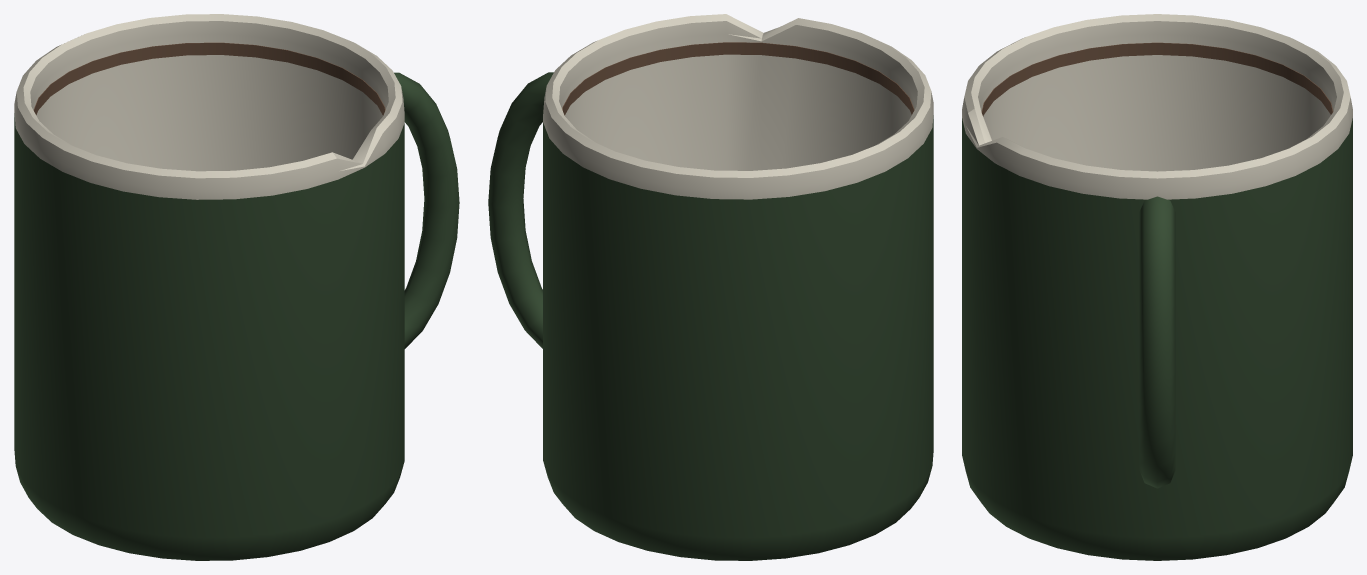
File: coffee-mug-green-empty-4efedf6712d3.glb
The picture shows the model from 3 angles, left to right: view 1: azimuth 30°, elevation 25°; view 2: azimuth 150°, elevation 25°; view 3: azimuth 270°, elevation 25°; orthographic projection.
Parts seen in each view (by area): view 1: enamel-green, enamel, wood; view 2: enamel-green, enamel, wood; view 3: enamel-green, enamel, wood.
Part boxes in pixels (<box>): enamel-green: <box>14,72,459,560</box>; enamel: <box>14,14,404,199</box>; wood: <box>33,42,385,115</box>; enamel-green: <box>488,72,933,560</box>; enamel: <box>543,14,933,199</box>; wood: <box>562,42,914,115</box>; enamel-green: <box>962,118,1352,560</box>; enamel: <box>962,14,1352,199</box>; wood: <box>981,42,1333,116</box>.
Bounding box in the file's own units: 0.106 × 0.096 × 0.086.
